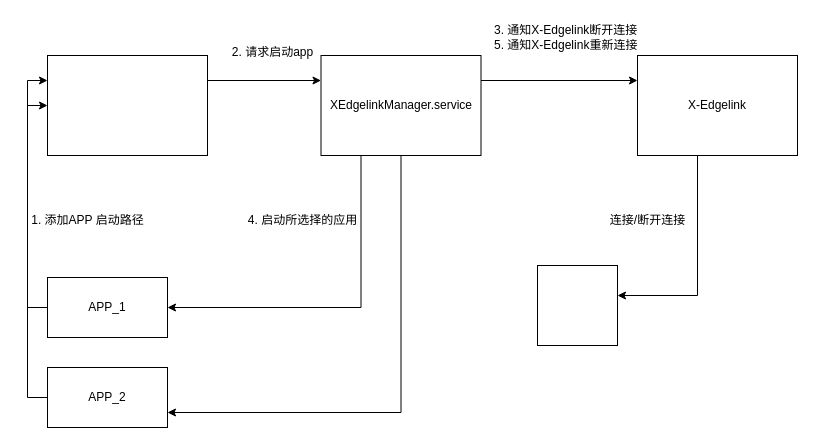
Image size: 815x445. Some labels were removed from this diagram. Each missing label, with the centre of its shape:
"CloudXR Server" belongs at point 577,305.
"XEdgelinkManager.UI" belongs at point 127,105.
